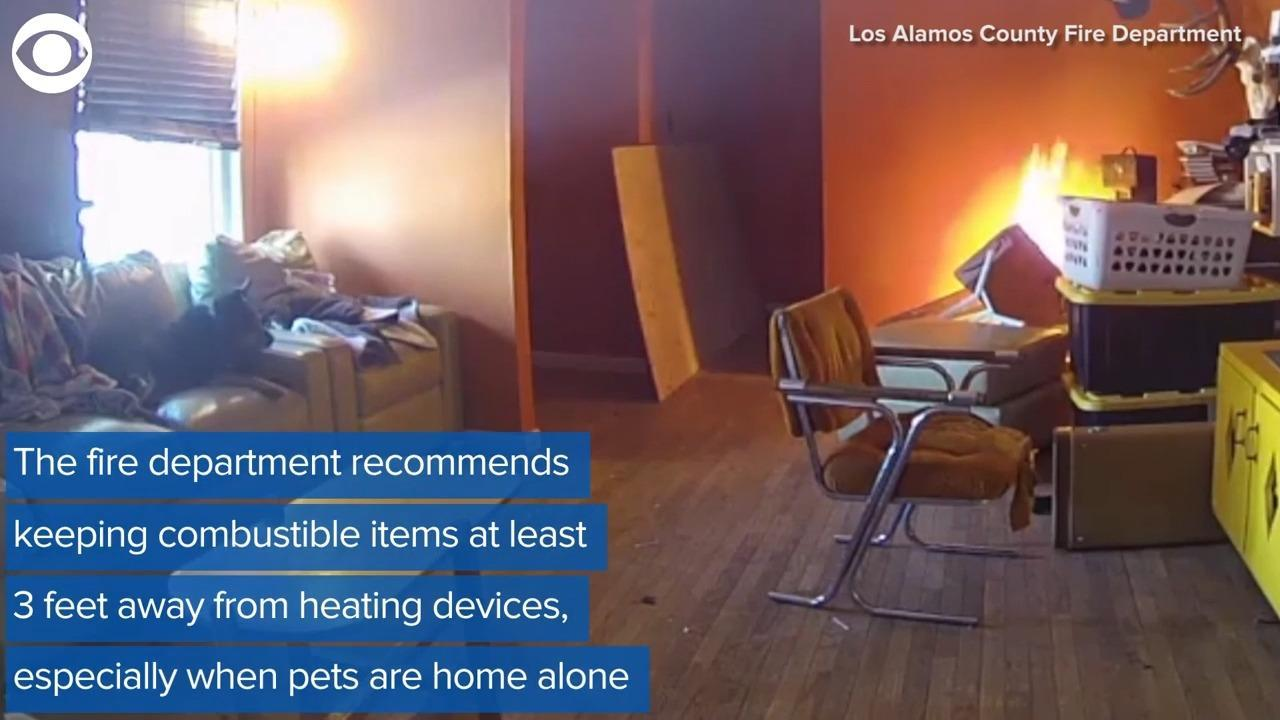fire: (997, 114, 1090, 270)
